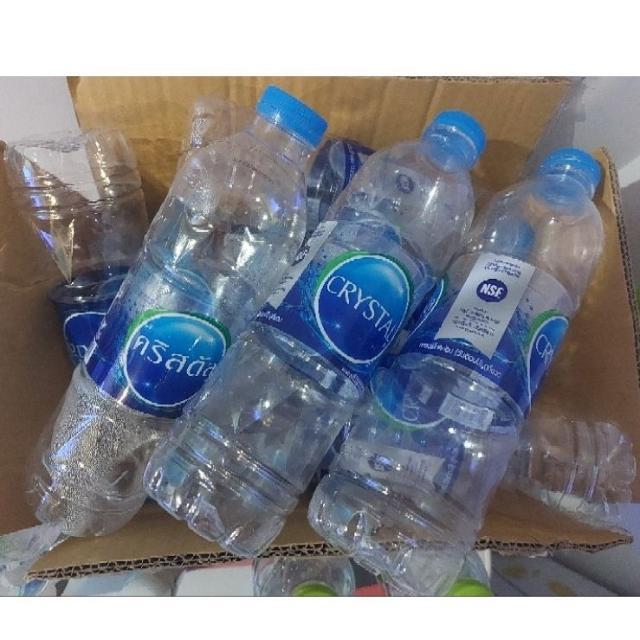PET Bottle: (0, 83, 638, 583)
